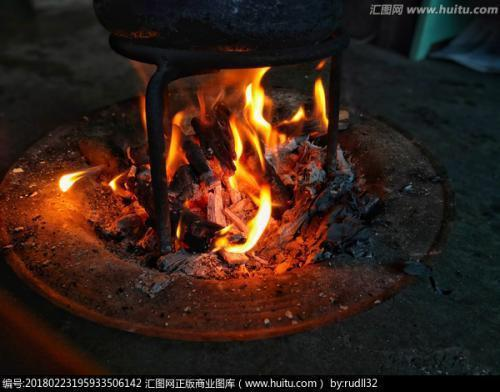fire: (114, 62, 341, 263), (51, 162, 110, 193)
